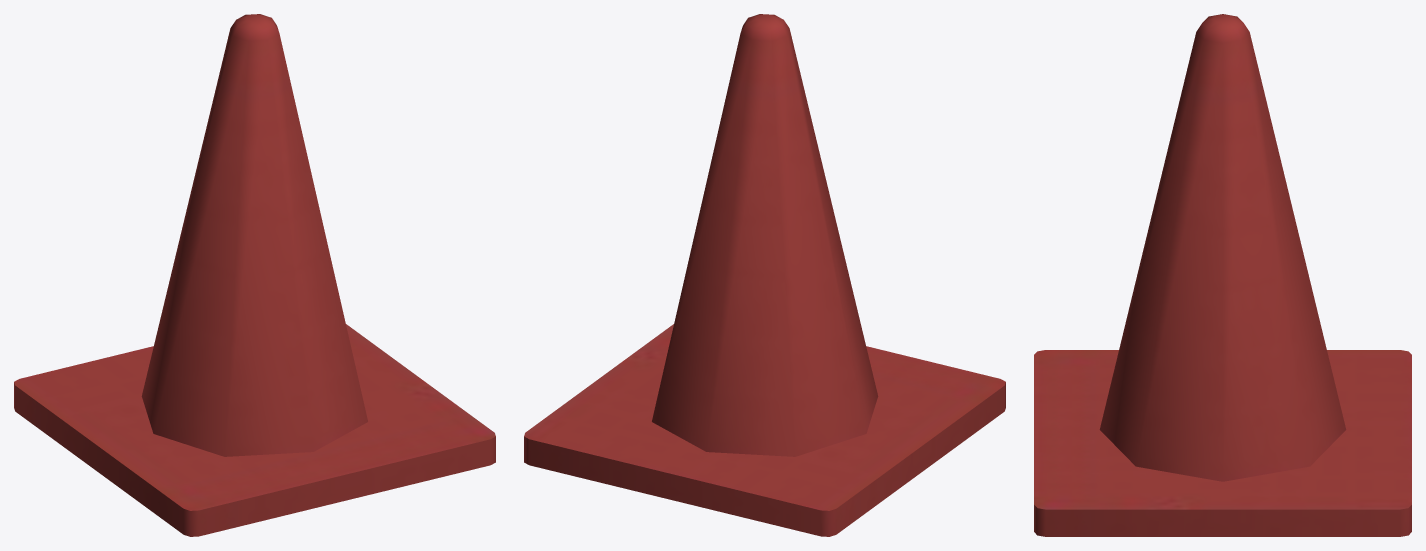
The model's file is cone_signalisation.glb.
3 views of the same model, side by side, from view 1: azimuth 30°, elevation 25°; view 2: azimuth 150°, elevation 25°; view 3: azimuth 270°, elevation 25° (orthographic). The views are drawn at different scales.
Parts seen in each view (by area): view 1: Traffic_Cone; view 2: Traffic_Cone; view 3: Traffic_Cone.
Boxes of the visible parts, x1=… form: Traffic_Cone: x1=14, y1=14, x2=495, y2=536; Traffic_Cone: x1=524, y1=14, x2=1005, y2=536; Traffic_Cone: x1=1034, y1=14, x2=1411, y2=536.
Bounding box in the file's own units: 0.25 × 0.32 × 0.25.
1 material, 1 textured.
